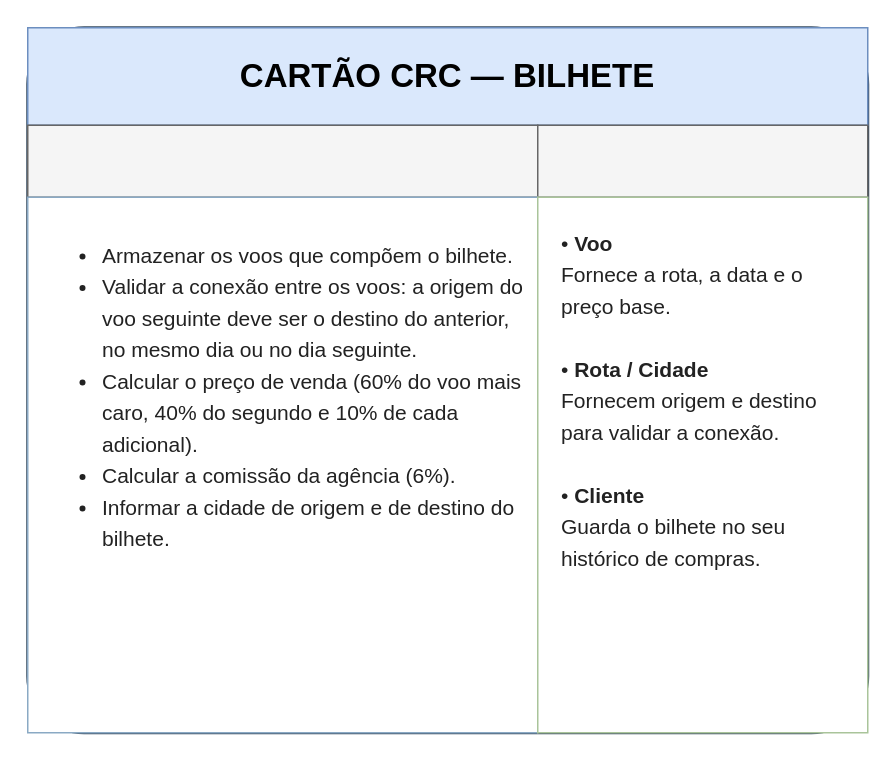
Some shapes in this 894 by 759 pixel diagram are drawn without their labels. Each missing label, with the centre of its shape:
COLABORADORES: point 702,160
RESPONSABILIDADES: point 282,160
